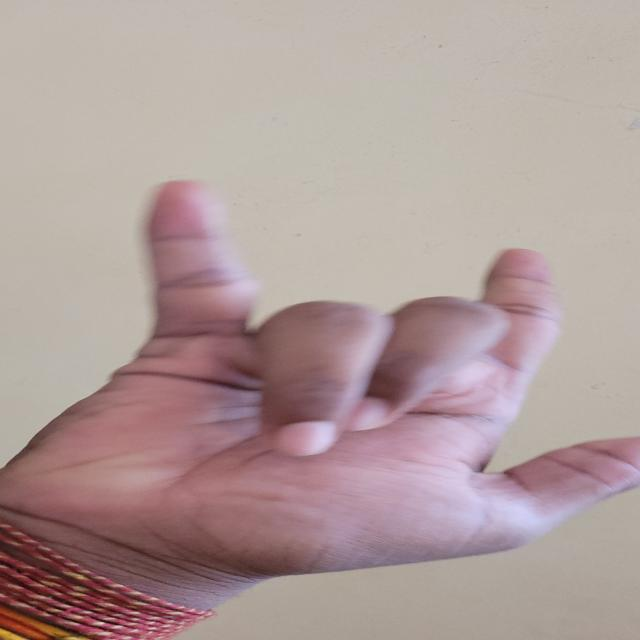i like you: (33, 144, 640, 640)
